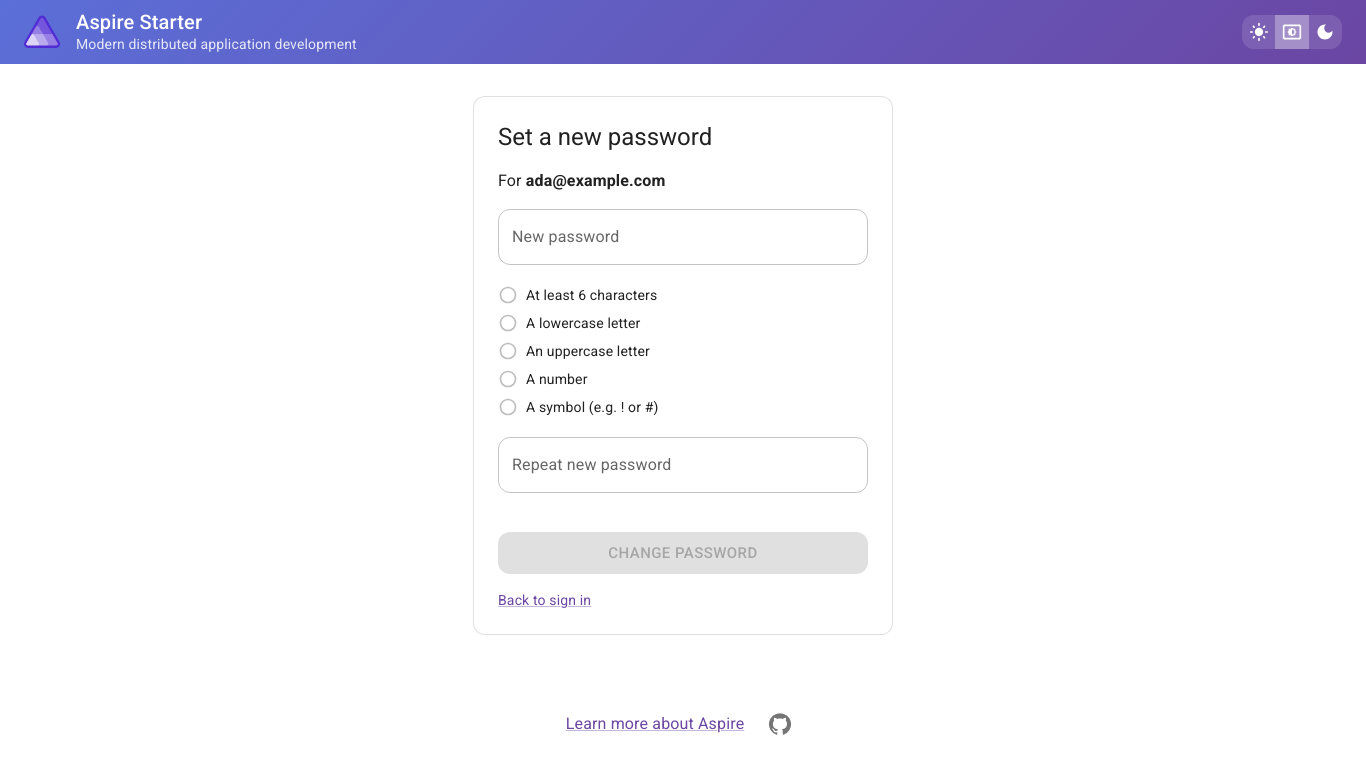
Test case: ResetPasswordPage › changes the password and sends the user to sign in, where the new password works
Type "N3wPassw0rd!" into the password field labelled "New password". click: coordinates (683, 237)
box: [498,209,868,265]
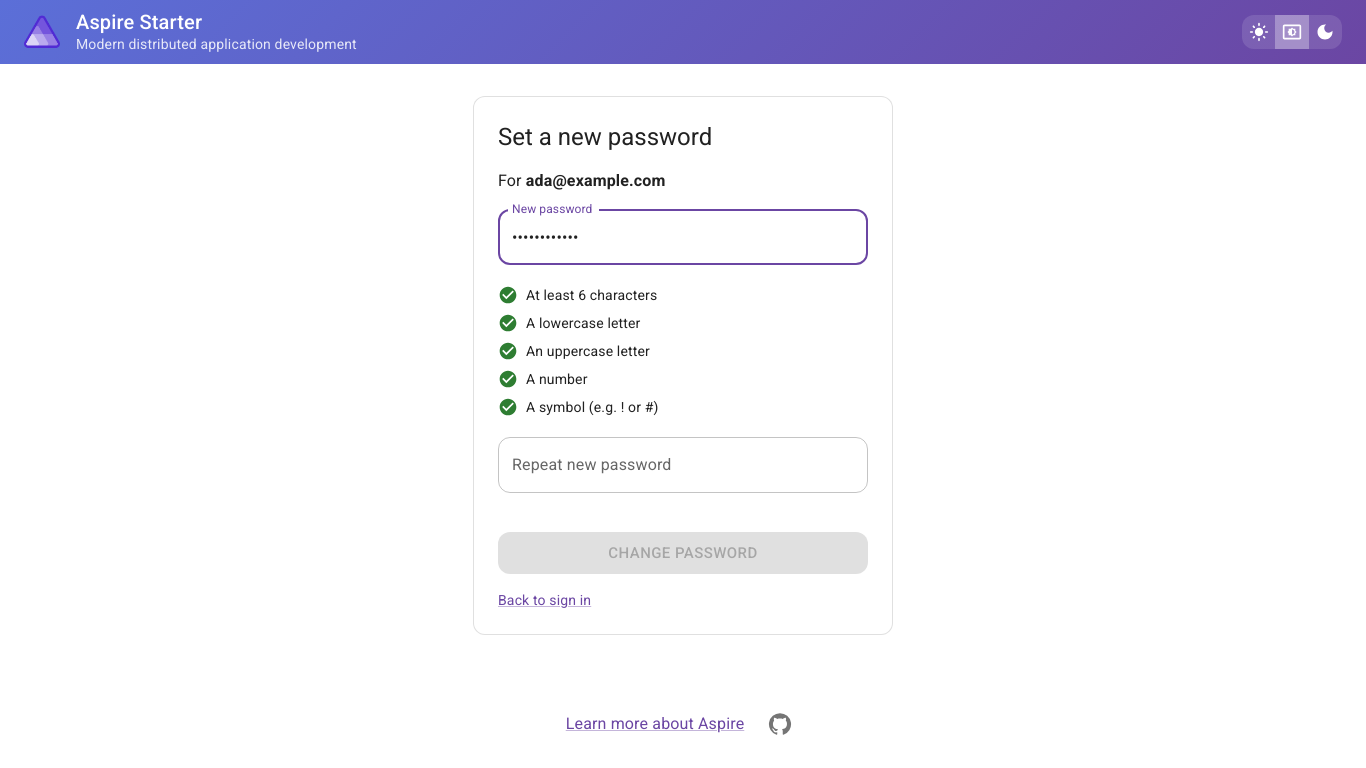
Type "N3wPassw0rd!" into the password field labelled "Repeat new password". click: coordinates (683, 465)
box: [498,437,868,493]
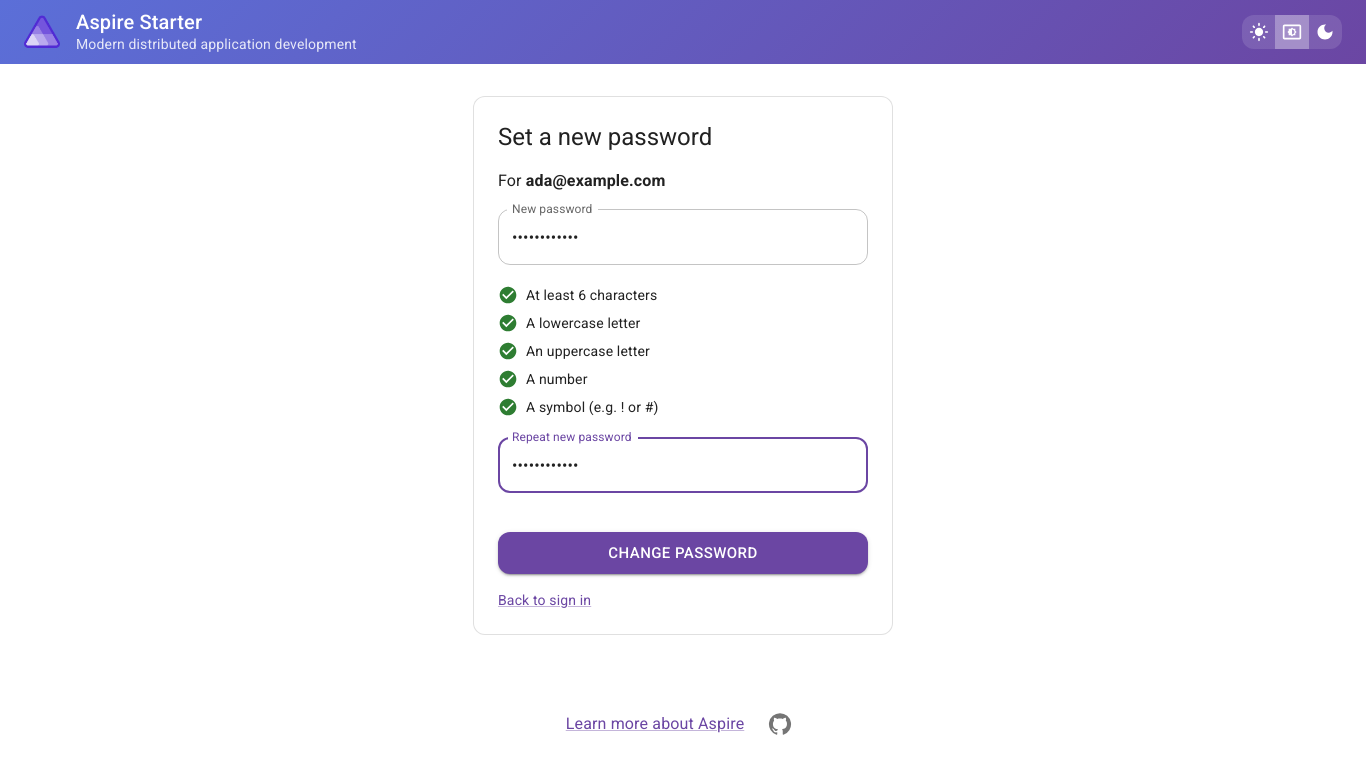
Click the button "Change password". click: coordinates (683, 553)
box: [498,532,868,574]
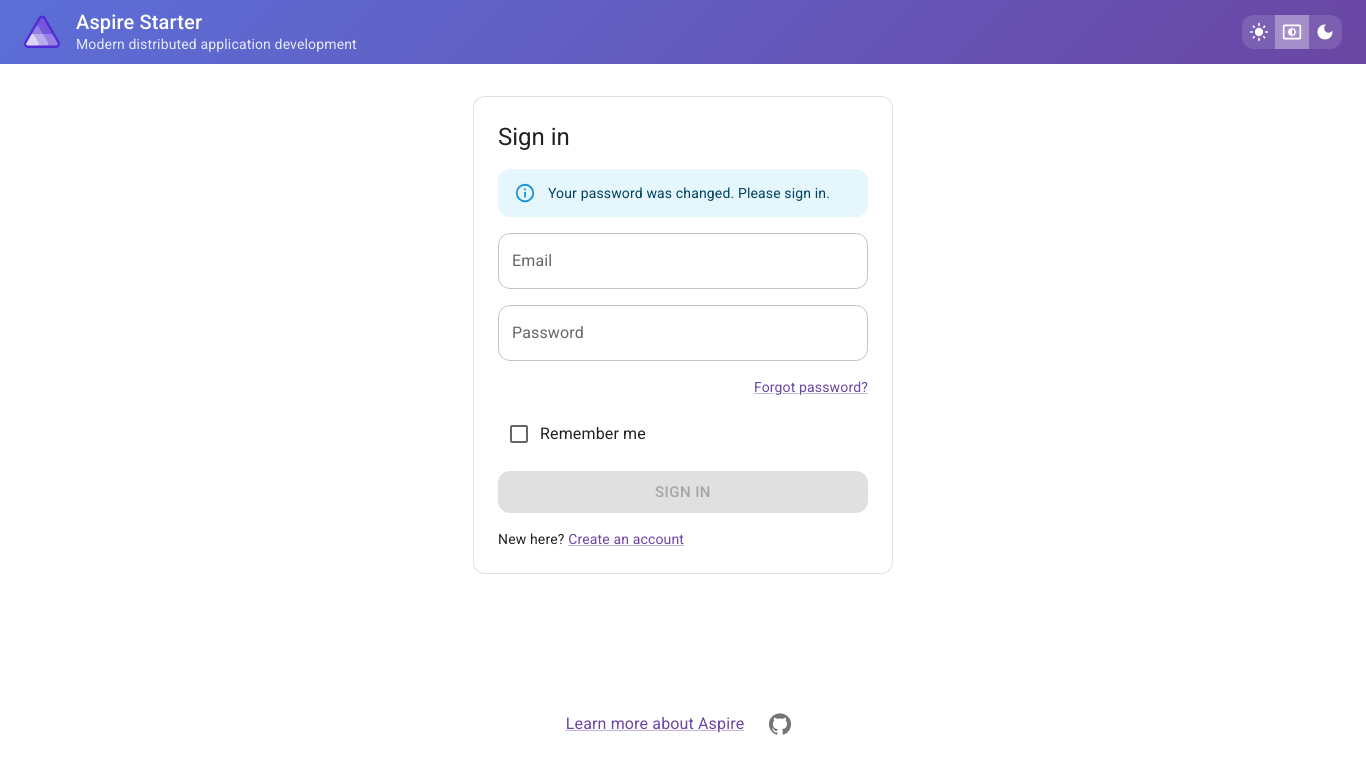
Expected: the text "Your password was changed. Please sign in." is shown, [548,185,830,201]
Expected: the heading "Sign in" is shown, [498,123,570,151]
